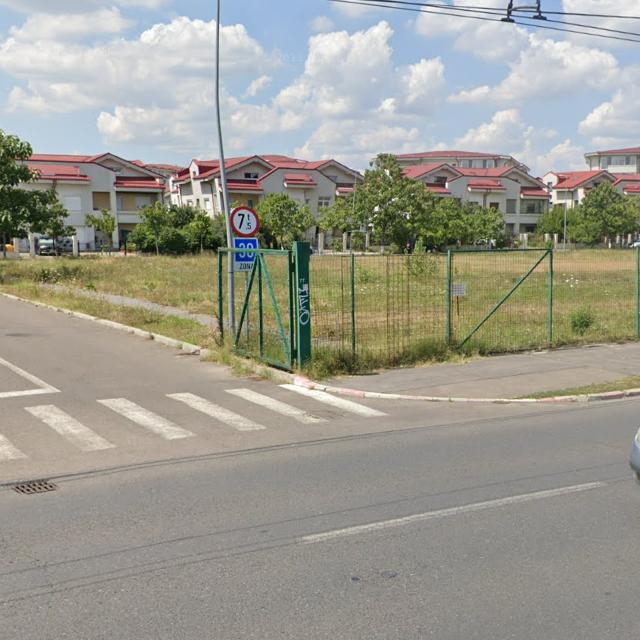forb_weight_over_7.5t: (230, 206, 260, 237)
